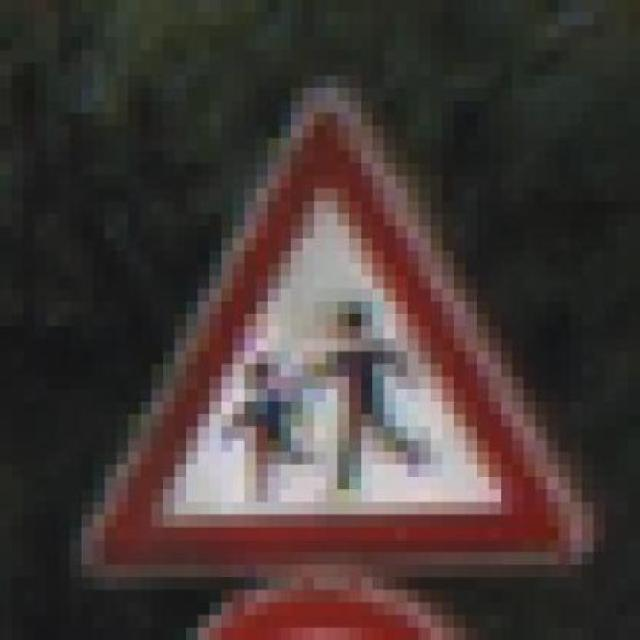Beware of children: (81, 50, 605, 578)
